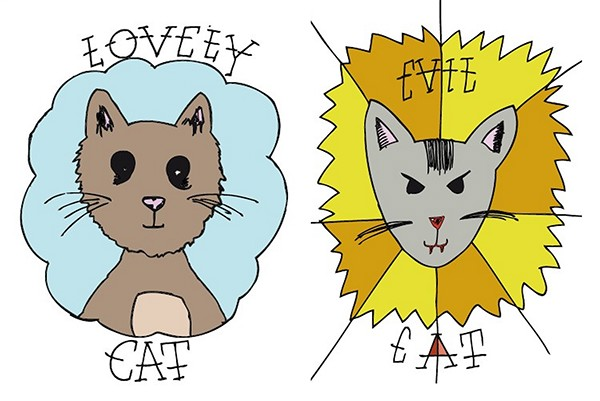cat: (37, 81, 287, 342), (343, 96, 548, 294)
